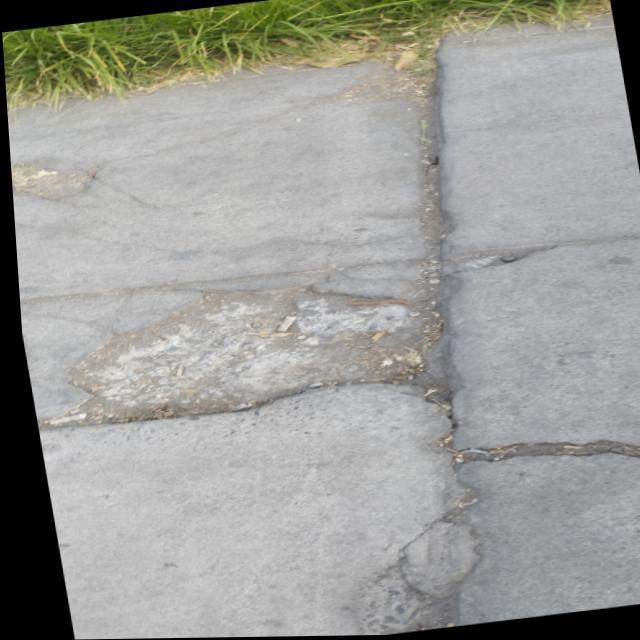hole: (41, 270, 447, 434)
